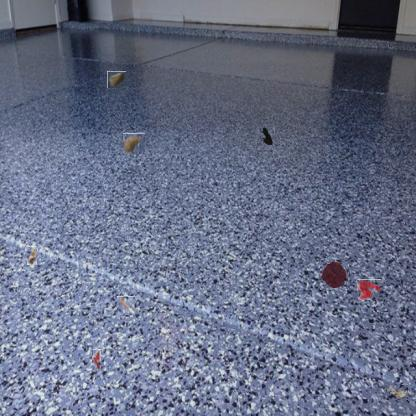dirty: (124, 133, 145, 154), (256, 125, 276, 145), (388, 386, 410, 402), (117, 297, 136, 315), (107, 71, 126, 88), (25, 246, 37, 265), (91, 349, 101, 370)
liquid: (320, 260, 348, 290), (358, 279, 382, 300)
